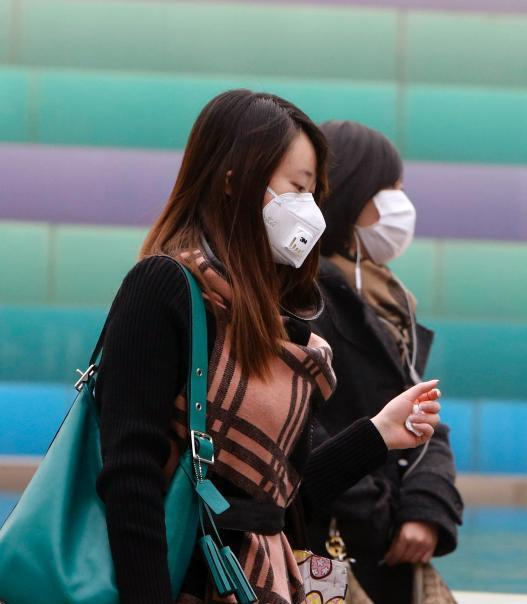OK: (245, 170, 331, 256), (346, 178, 420, 268)
